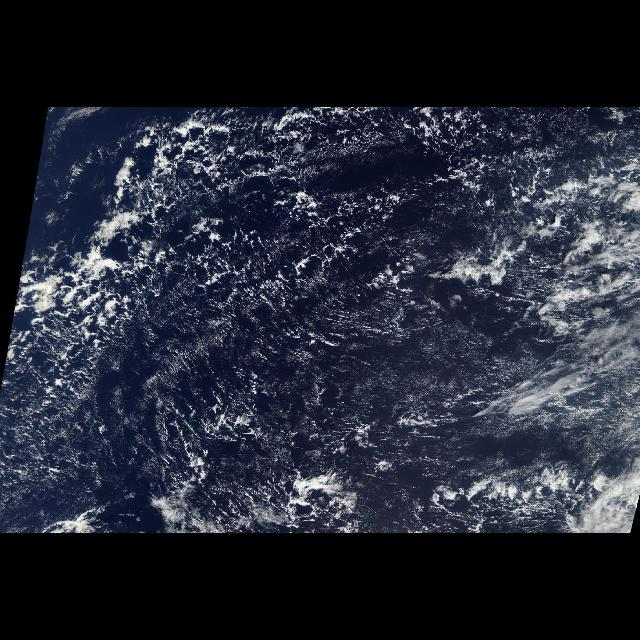Fish: (510, 136, 638, 534)
Gravel: (14, 111, 526, 533)
Sugar: (167, 212, 635, 530)
